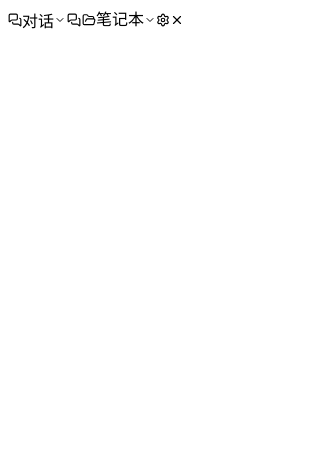
Test: interview onboarding panel › does not open the guide until the user switches to interview mode
expect the heading "先让面试分身认识你" is not shown: met
Click the button "对话".
click(37, 20)  # box left=8, top=8, right=66, bottom=32
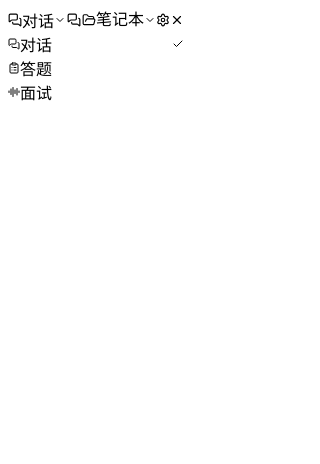
Click the menu item "面试".
click(96, 92)  # box left=8, top=80, right=184, bottom=104
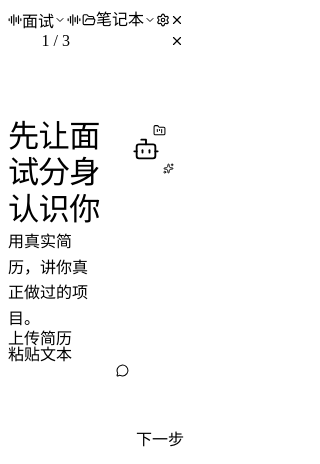
expect the heading "先让面试分身认识你" is shown: met, box left=8, top=119, right=100, bottom=229
